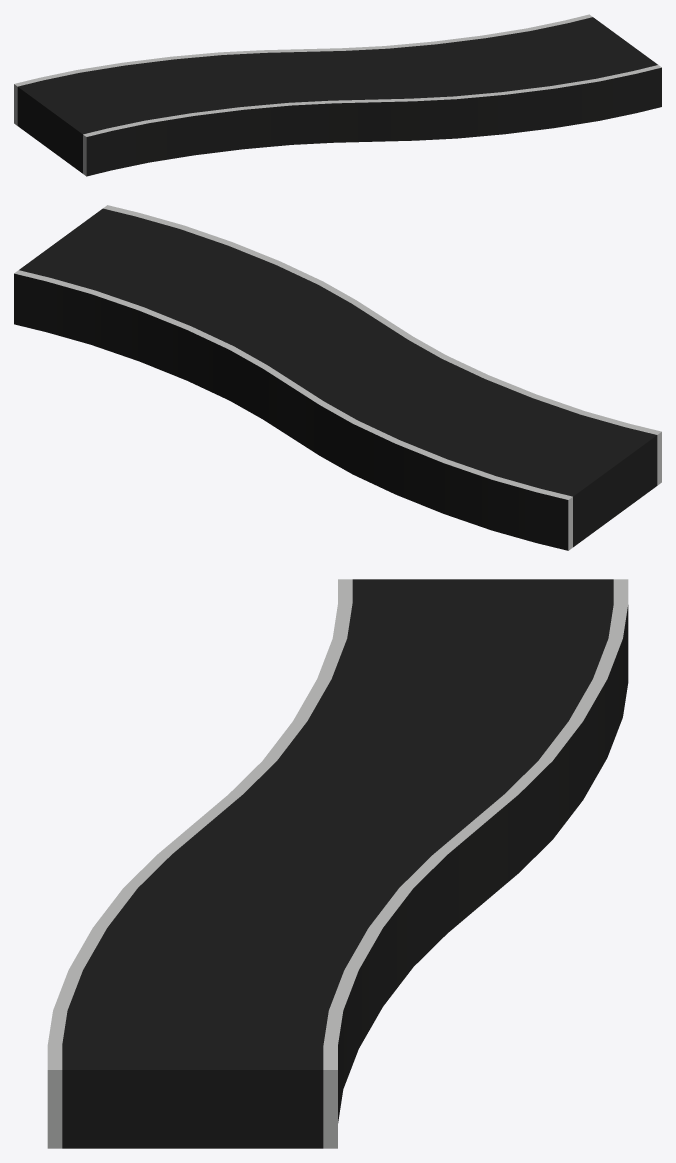
The model's file is SM_Road_Snake_Right.fbx.
3 views of the same model, one above another, from view 1: azimuth 30°, elevation 25°; view 2: azimuth 150°, elevation 25°; view 3: azimuth 270°, elevation 25° (orthographic). The views are drawn at different scales.
Parts seen in each view (by area): view 1: SM_Road_Snake_Right; view 2: SM_Road_Snake_Right; view 3: SM_Road_Snake_Right.
Part boxes in pixels (x1,y1,x2,y2): SM_Road_Snake_Right: (14, 14, 661, 176); SM_Road_Snake_Right: (14, 205, 661, 550); SM_Road_Snake_Right: (47, 579, 628, 1148).
Bounding box in the file's own units: 4000 × 300 × 2000.
